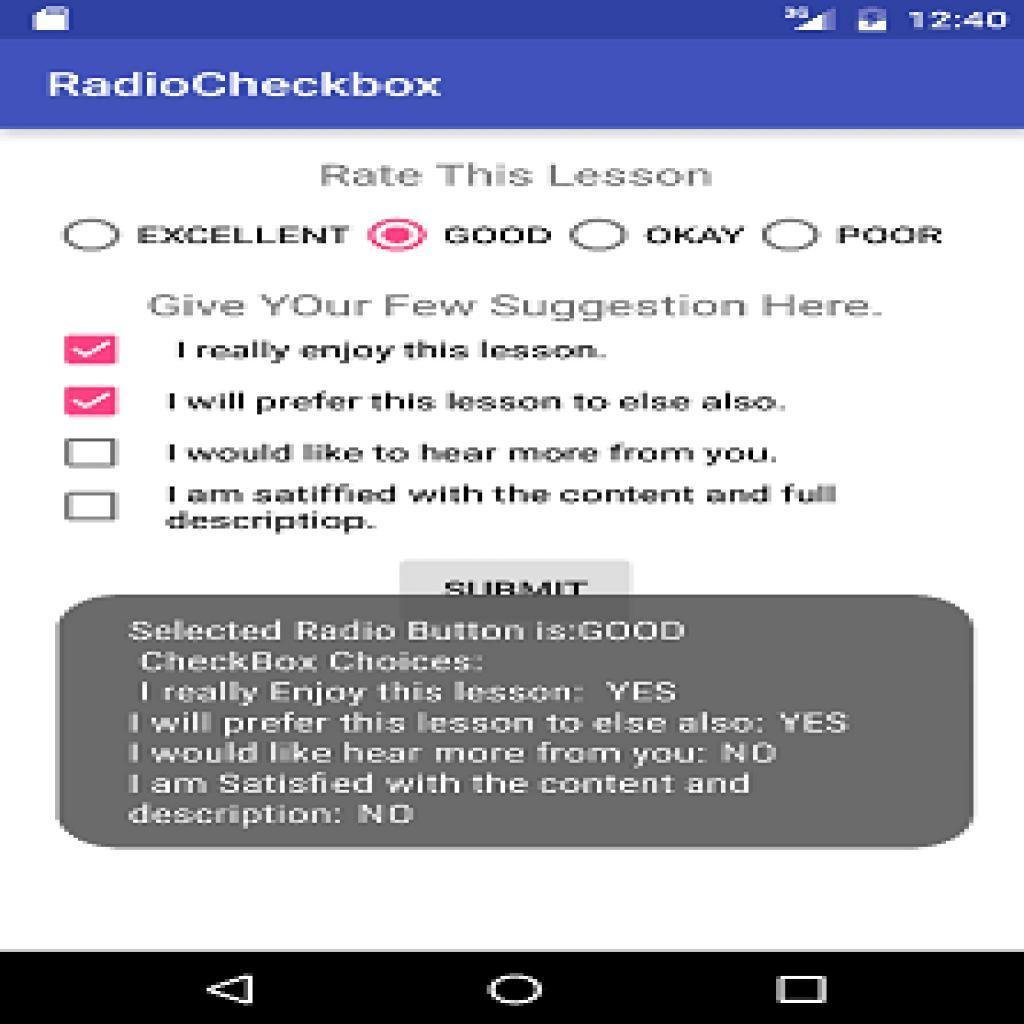button: (402, 561, 633, 594)
checkbox: (64, 383, 122, 418), (63, 334, 121, 367), (65, 492, 120, 522), (66, 440, 121, 469)
label: (164, 484, 855, 530), (166, 437, 776, 467), (165, 387, 789, 413), (175, 337, 611, 367), (135, 220, 353, 249), (833, 219, 946, 249), (641, 219, 746, 250), (443, 222, 555, 251)
radio: (564, 216, 635, 256), (760, 215, 828, 255), (364, 214, 431, 254), (61, 216, 125, 254)
